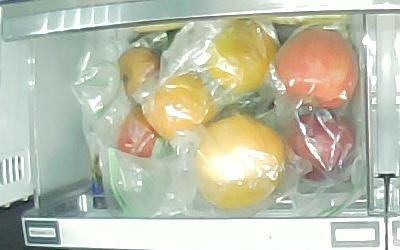apple_vinyl: (276, 27, 360, 110), (287, 112, 356, 182)
grapefruit_vinyl: (195, 114, 287, 209)
persimmon_vinyl: (206, 19, 280, 93), (147, 73, 220, 140)
prune_vinyl: (118, 47, 162, 101)
